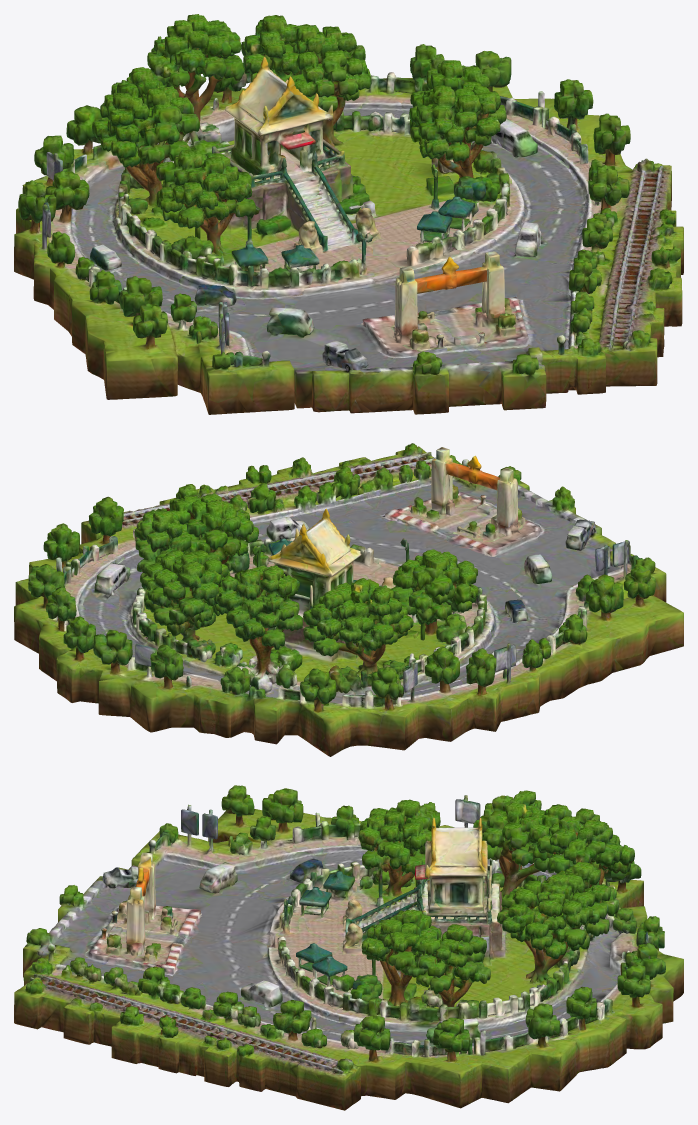
The model's file is sala-phra-kan.ar.glb.
The picture shows the model from 3 angles, top to bottom: view 1: azimuth 30°, elevation 25°; view 2: azimuth 150°, elevation 25°; view 3: azimuth 270°, elevation 25°; orthographic projection. The views are drawn at different scales.
Size of the model in its own units: 0.3844 by 0.0989 by 0.4.
1 material, 1 textured.
